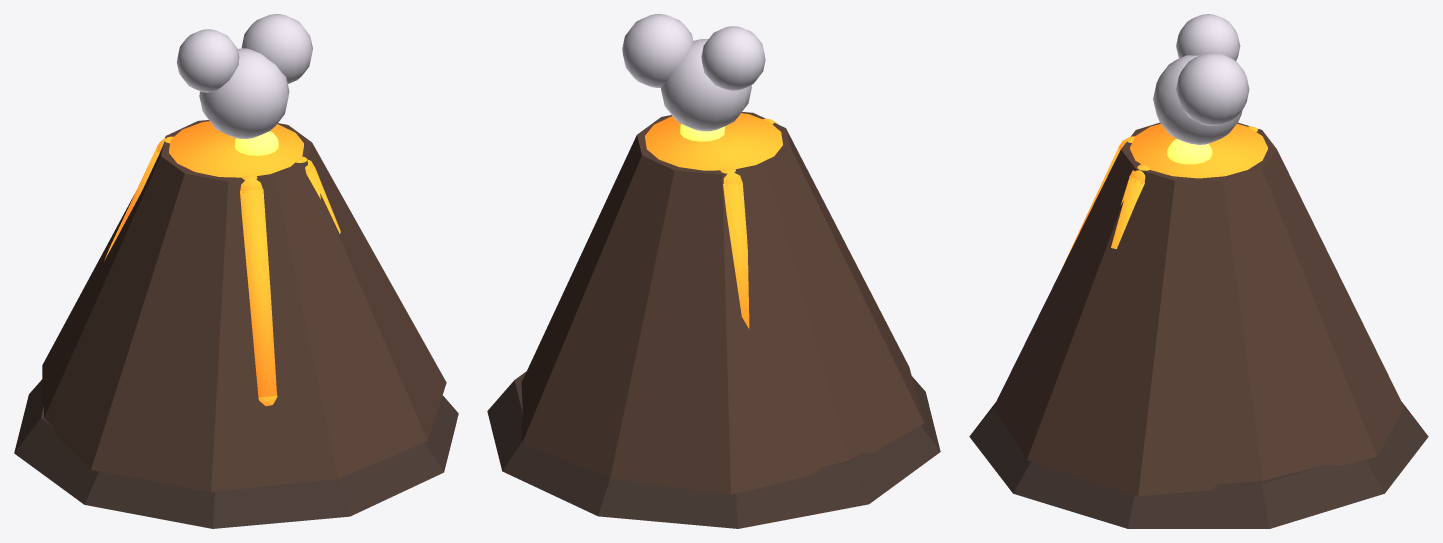
The model's file is volcano_v2.glb.
3 views of the same model, side by side, from view 1: azimuth 30°, elevation 25°; view 2: azimuth 150°, elevation 25°; view 3: azimuth 270°, elevation 25° (orthographic).
Parts seen in each view (by area): view 1: Cone, Base rocks, Smoke 0, Crater lava, Lava flow 0, Smoke 1, Smoke 2, Lava bubble, Lava flow 2; view 2: Cone, Base rocks, Crater lava, Smoke 0, Smoke 1, Smoke 2, Lava flow 2; view 3: Cone, Base rocks, Crater lava, Smoke 1, Smoke 0, Smoke 2, Lava bubble, Lava flow 1.
Boxes of the visible parts, box(x1,y1,x2,y2) form: Cone: box(42, 120, 446, 491); Base rocks: box(14, 379, 458, 528); Smoke 0: box(199, 48, 289, 138); Crater lava: box(169, 121, 303, 177); Lava flow 0: box(240, 189, 276, 397); Smoke 1: box(241, 14, 312, 83); Smoke 2: box(176, 29, 239, 92); Lava bubble: box(235, 131, 278, 155); Lava flow 2: box(105, 145, 159, 259); Cone: box(521, 112, 924, 494); Base rocks: box(487, 371, 940, 528); Crater lava: box(645, 113, 782, 170); Smoke 0: box(660, 39, 751, 131); Smoke 1: box(622, 14, 693, 87); Smoke 2: box(701, 26, 765, 90); Lava flow 2: box(723, 182, 749, 329); Cone: box(993, 122, 1404, 496); Base rocks: box(969, 401, 1428, 528); Crater lava: box(1130, 123, 1267, 178); Smoke 1: box(1176, 52, 1249, 125); Smoke 0: box(1153, 55, 1242, 144); Smoke 2: box(1176, 14, 1240, 60); Lava bubble: box(1167, 139, 1212, 164); Lava flow 1: box(1111, 176, 1144, 249).
Bounding box in the file's own units: 0.9511 × 0.98 × 1.
